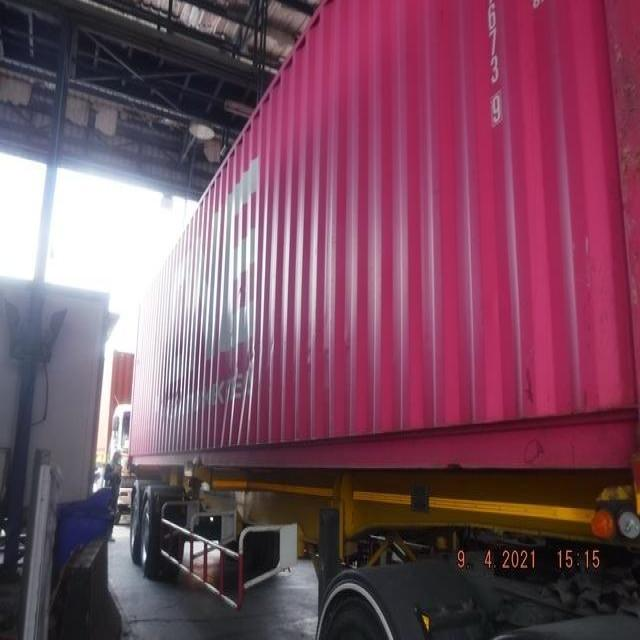dent: (219, 289, 273, 424)
